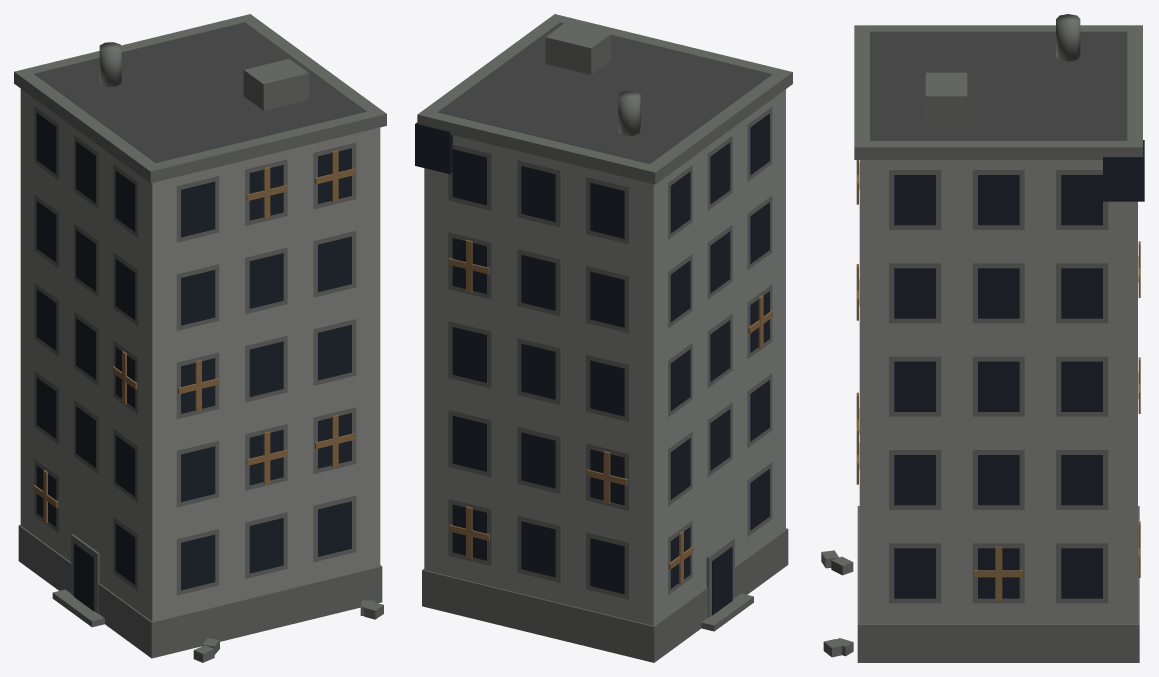
The model's file is building_b.glb.
The picture shows the model from 3 angles, left to right: view 1: azimuth 30°, elevation 25°; view 2: azimuth 150°, elevation 25°; view 3: azimuth 270°, elevation 25°; orthographic projection. The views are drawn at different scales.
Parts seen in each view (by area): view 1: BuildingB; view 2: BuildingB; view 3: BuildingB.
Boxes of the visible parts, x1,y1,x2,y2 form: BuildingB: (14, 14, 386, 662); BuildingB: (415, 14, 792, 662); BuildingB: (821, 14, 1144, 662).
Size of the model in its own units: 8.7 by 17.6 by 9.3.
